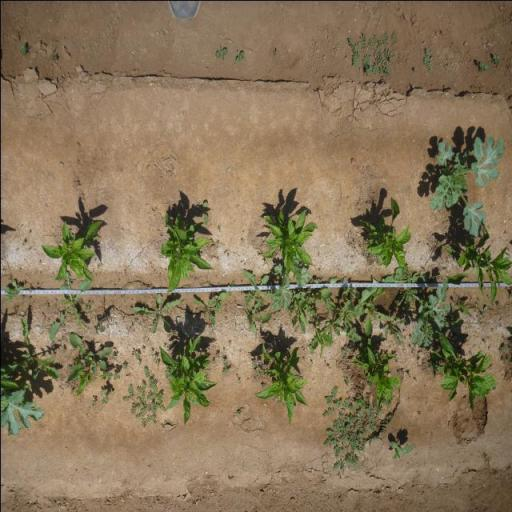plant: (428, 332, 497, 413), (441, 227, 512, 305), (159, 332, 217, 425), (254, 341, 310, 426), (159, 210, 212, 292), (257, 204, 317, 273), (40, 218, 102, 283), (359, 192, 411, 269), (353, 340, 401, 408), (70, 366, 104, 398)
weed: (428, 126, 506, 239), (317, 383, 394, 477), (13, 316, 60, 390), (47, 275, 92, 343), (409, 275, 450, 347), (120, 366, 166, 429), (343, 28, 399, 77), (335, 285, 381, 342), (382, 263, 431, 313), (309, 296, 345, 359), (269, 263, 314, 312), (288, 283, 332, 333), (0, 392, 45, 437), (134, 294, 180, 334), (67, 330, 111, 358), (240, 268, 268, 310), (363, 301, 391, 335), (245, 309, 272, 333), (192, 297, 216, 323), (383, 318, 405, 343), (389, 440, 413, 462), (3, 279, 23, 303), (497, 336, 512, 363), (93, 313, 112, 334), (196, 198, 209, 225), (445, 316, 463, 335), (99, 385, 115, 405), (454, 300, 475, 314), (213, 290, 225, 312), (422, 47, 432, 72), (214, 45, 228, 61), (131, 349, 142, 365), (490, 51, 500, 67), (426, 360, 437, 374), (234, 49, 245, 63), (18, 42, 29, 56), (477, 61, 489, 72), (341, 374, 349, 388), (113, 366, 121, 380), (153, 354, 160, 368), (480, 305, 488, 317), (106, 367, 113, 380), (49, 52, 58, 62), (348, 340, 354, 354), (222, 368, 232, 376), (221, 356, 228, 367), (165, 343, 174, 351), (163, 368, 170, 378), (342, 346, 348, 356), (84, 300, 90, 310), (112, 350, 117, 360), (92, 398, 97, 408), (236, 409, 242, 417), (214, 350, 220, 358), (160, 420, 166, 428), (406, 371, 412, 378), (226, 339, 232, 346), (396, 370, 406, 374), (251, 357, 256, 365), (122, 361, 127, 369), (366, 254, 372, 260), (258, 366, 262, 375), (96, 262, 102, 268), (20, 239, 26, 245), (497, 302, 502, 308), (50, 352, 56, 357), (413, 66, 417, 73), (67, 365, 72, 370), (394, 356, 398, 362), (429, 430, 432, 438), (263, 259, 267, 265), (253, 366, 257, 372), (211, 358, 215, 364), (258, 358, 261, 365), (260, 383, 264, 388), (218, 224, 220, 232), (438, 274, 440, 280), (238, 379, 240, 385), (222, 346, 224, 351), (62, 347, 64, 352)
